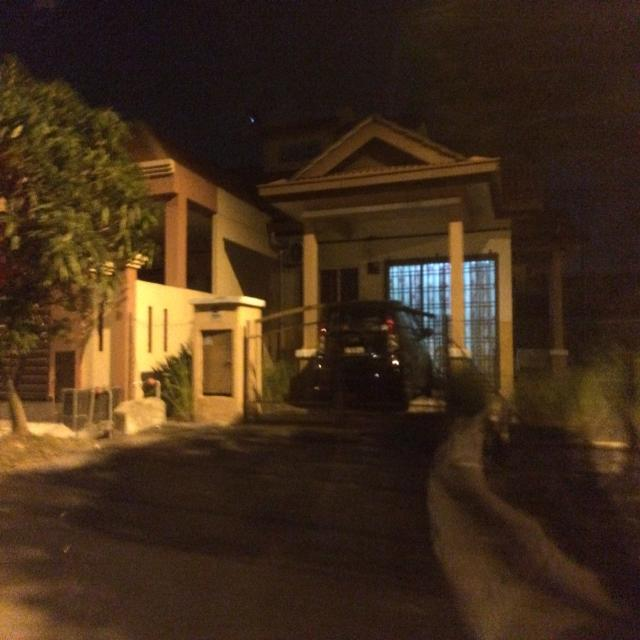Car: (316, 301, 429, 414)
